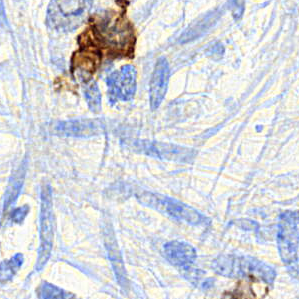Lymphocyte: (70, 7, 137, 77)
